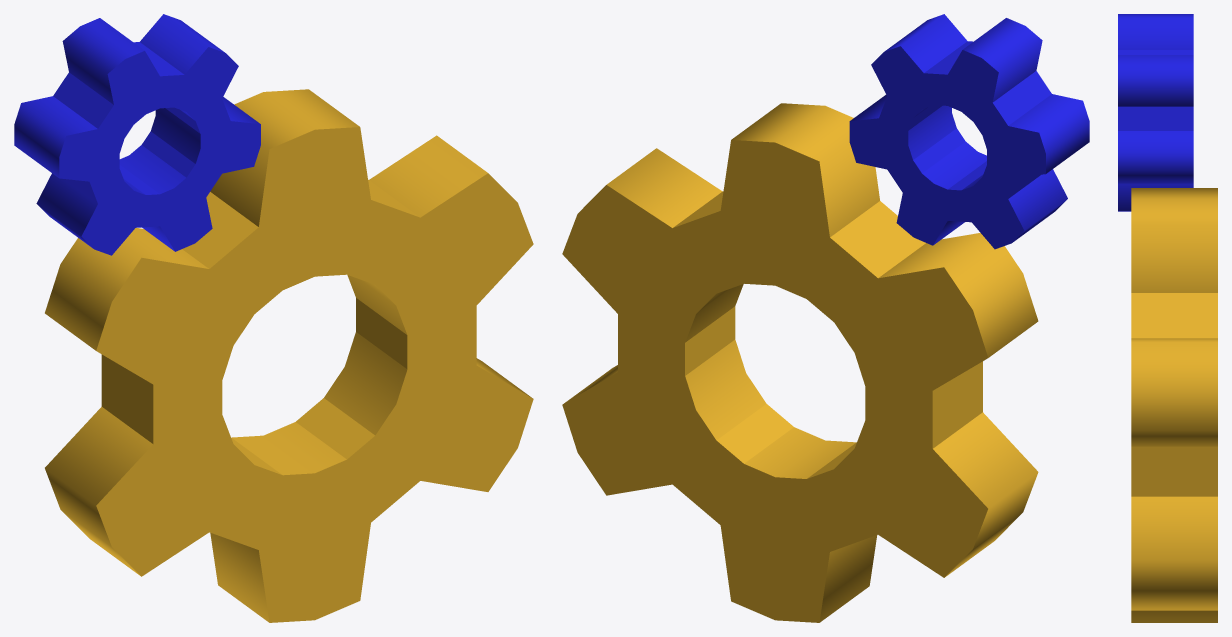
Rendered from clogs.glb.
3 renders of one model, left to right at view 1: azimuth 30°, elevation 25°; view 2: azimuth 150°, elevation 25°; view 3: azimuth 270°, elevation 25°, orthographic. The views are drawn at different scales.
Visible parts, largest first — view 1: Circle.001; view 2: Circle.001; view 3: Circle.001.
Part boxes in pixels (bbox=[...]): Circle.001: bbox=[14, 14, 533, 622]; Circle.001: bbox=[562, 14, 1089, 622]; Circle.001: bbox=[1118, 14, 1217, 622].
Bounding box in the file's own units: 0.7403 × 0.9076 × 0.1578.
